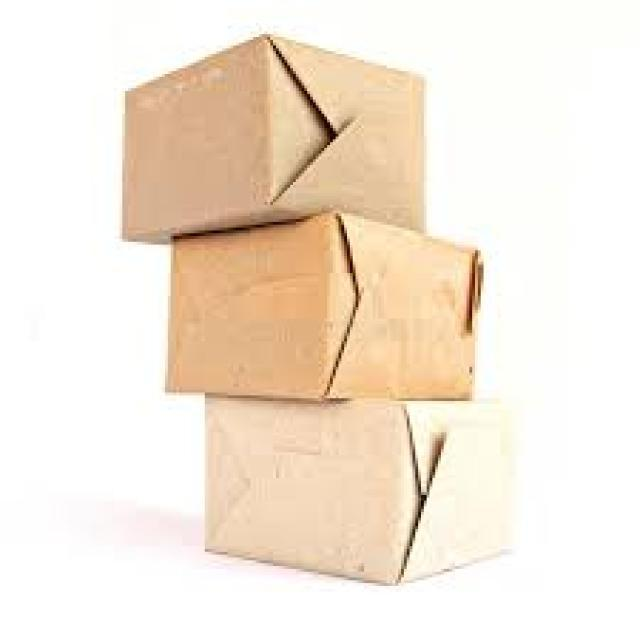Cardboard: (122, 29, 425, 252), (202, 390, 522, 586), (170, 215, 474, 400)
